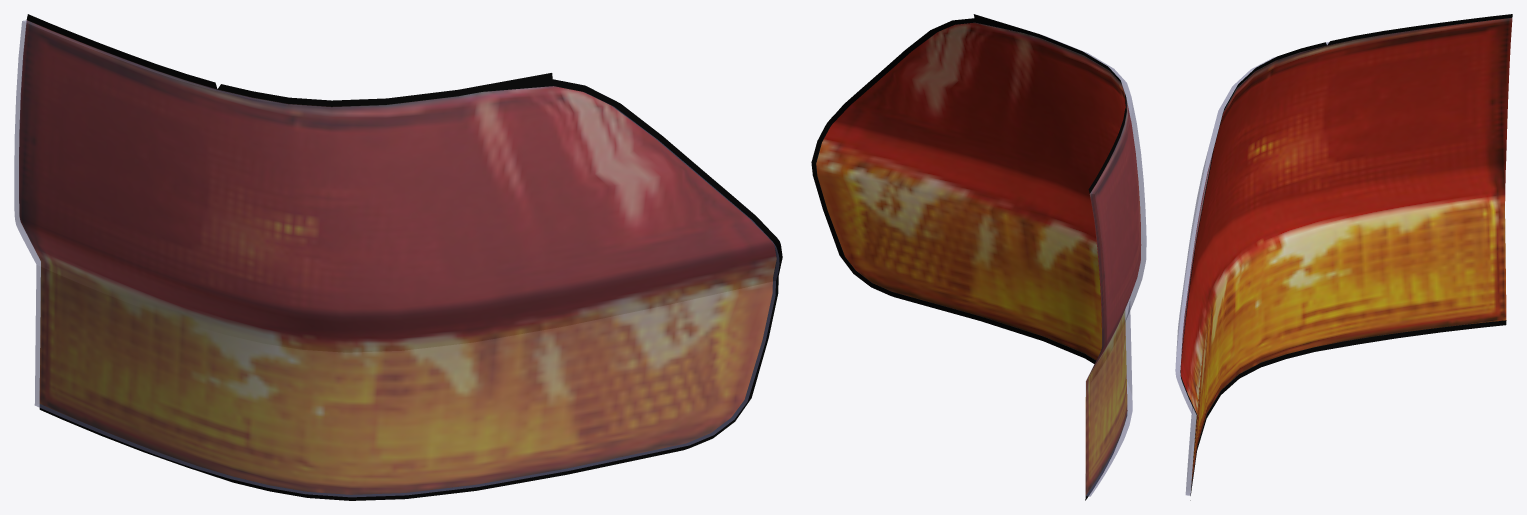
The picture shows the model from 3 angles, left to right: view 1: azimuth 30°, elevation 25°; view 2: azimuth 150°, elevation 25°; view 3: azimuth 270°, elevation 25°; orthographic projection. The views are drawn at different scales.
Visible parts, largest first — view 1: H611_541C_R_2_DTaSI_H611_541C_R, H611_541C_R_H611_541C_R_1_N, H611_541C_R_H611_541C_R_3_D; view 2: H611_541C_R_H611_541C_R_1_N, H611_541C_R_2_DTaSI_H611_541C_R, H611_541C_R_H611_541C_R_3_D; view 3: H611_541C_R_H611_541C_R_1_N, H611_541C_R_H611_541C_R_3_D, H611_541C_R_2_DTaSI_H611_541C_R.
Boxes of the visible parts, box(x1,y1,x2,y2) form: H611_541C_R_2_DTaSI_H611_541C_R: box(14, 20, 779, 497); H611_541C_R_H611_541C_R_1_N: box(19, 20, 776, 494); H611_541C_R_H611_541C_R_3_D: box(26, 14, 782, 500); H611_541C_R_H611_541C_R_1_N: box(816, 22, 1140, 494); H611_541C_R_2_DTaSI_H611_541C_R: box(1043, 35, 1146, 496); H611_541C_R_H611_541C_R_3_D: box(811, 14, 1126, 500); H611_541C_R_H611_541C_R_1_N: box(1180, 18, 1512, 484); H611_541C_R_H611_541C_R_3_D: box(1180, 14, 1512, 500); H611_541C_R_2_DTaSI_H611_541C_R: box(1175, 42, 1328, 495).
Size of the model in its own units: 30.85 by 20.54 by 20.35.
